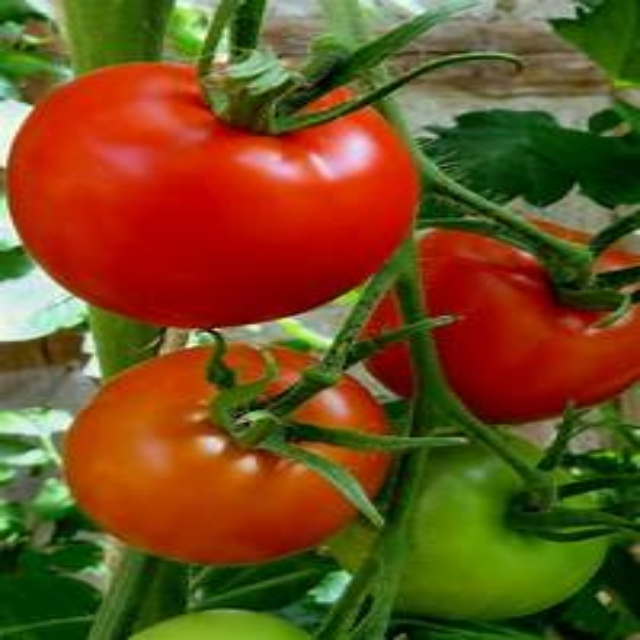tomato: (9, 57, 418, 326), (51, 338, 400, 550), (372, 217, 639, 398)
